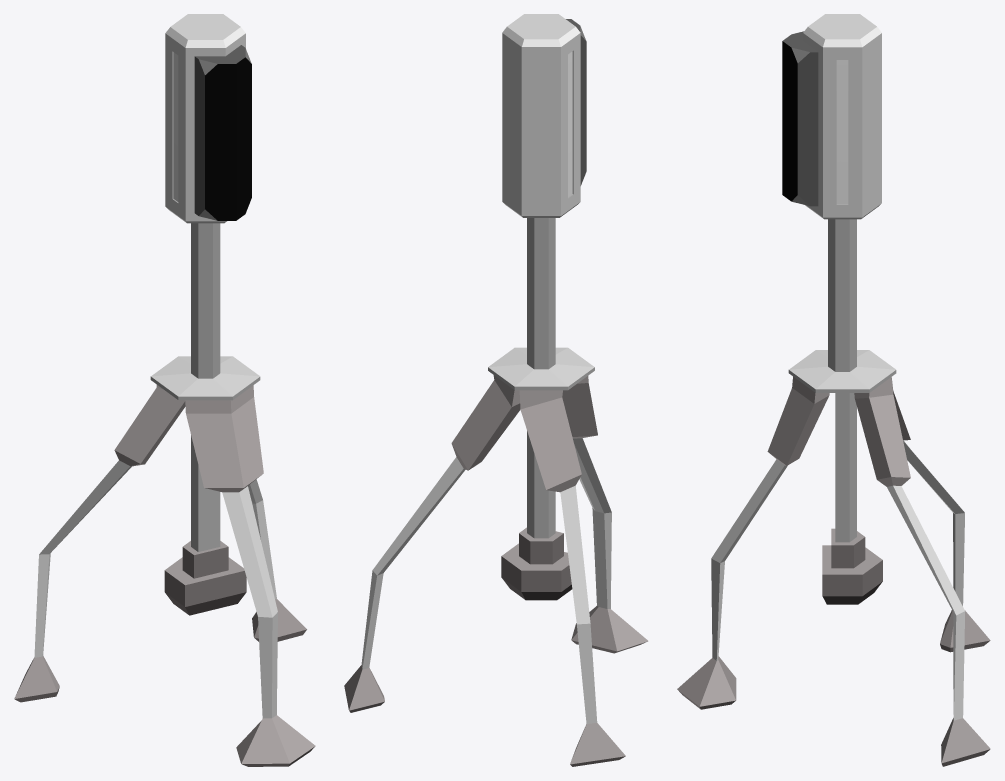
File: Sensor_01.glb
3 views of the same model, side by side, from view 1: azimuth 30°, elevation 25°; view 2: azimuth 150°, elevation 25°; view 3: azimuth 270°, elevation 25° (orthographic). The views are drawn at different scales.
Parts seen in each view (by area): view 1: Sensor_01; view 2: Sensor_01; view 3: Sensor_01.
Boxes of the visible parts, box(x1,y1,x2,y2) form: Sensor_01: box(14, 14, 315, 766); Sensor_01: box(344, 14, 648, 766); Sensor_01: box(677, 14, 990, 766).
Size of what is drawn, in the model's own units: 0.9956 by 2.23 by 0.947.
Materials: 1 (1 with a texture image).
